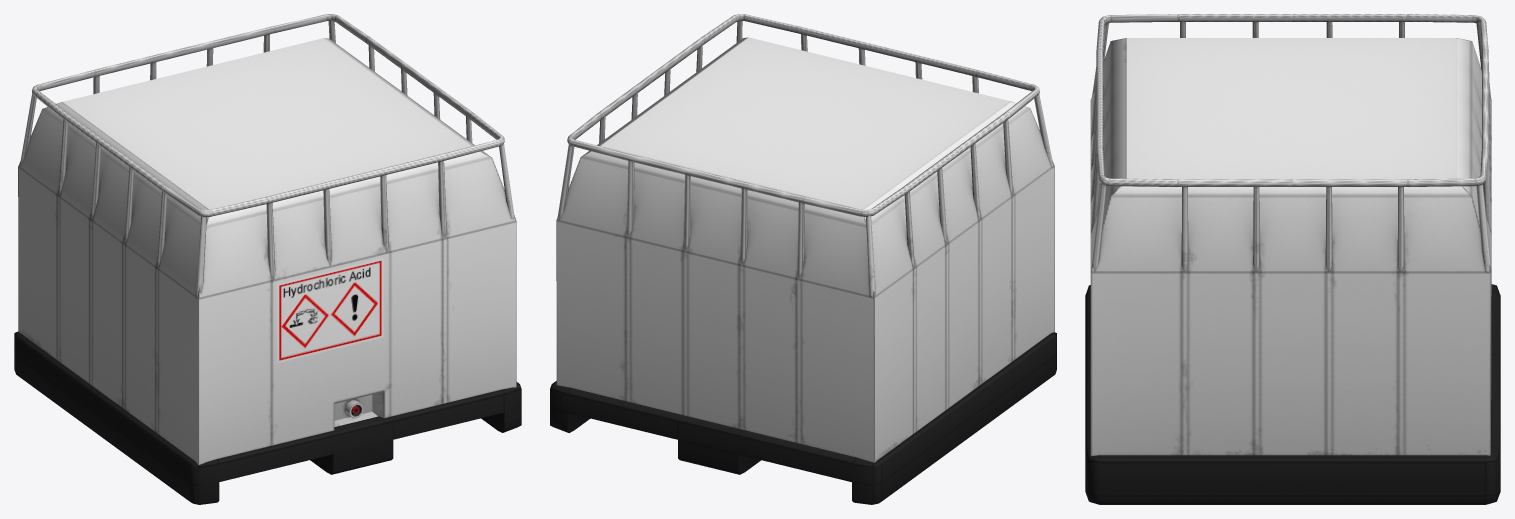
File: hydrochloricAcid_L.fbx
The picture shows the model from 3 angles, left to right: view 1: azimuth 30°, elevation 25°; view 2: azimuth 150°, elevation 25°; view 3: azimuth 270°, elevation 25°; orthographic projection. The views are drawn at different scales.
Parts seen in each view (by area): view 1: hydrochloricAcid_L; view 2: hydrochloricAcid_L; view 3: hydrochloricAcid_L.
Boxes of the visible parts, x1,y1,x2,y2 form: hydrochloricAcid_L: [14, 14, 521, 504]; hydrochloricAcid_L: [550, 14, 1056, 504]; hydrochloricAcid_L: [1085, 14, 1500, 504].
Bounding box in the file's own units: 0.7899 × 0.6621 × 0.7751.
1 material, 1 textured.
